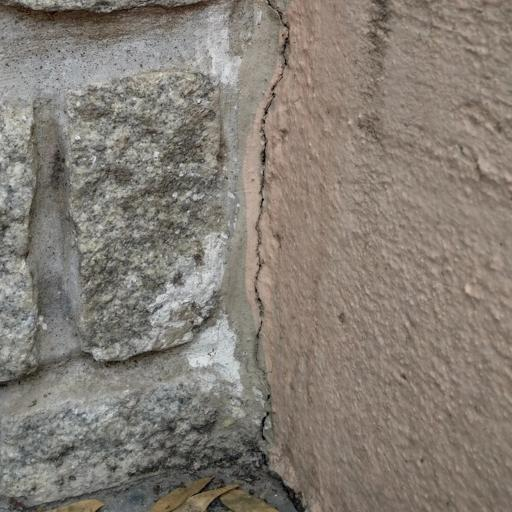major_crack: (219, 0, 330, 504)
